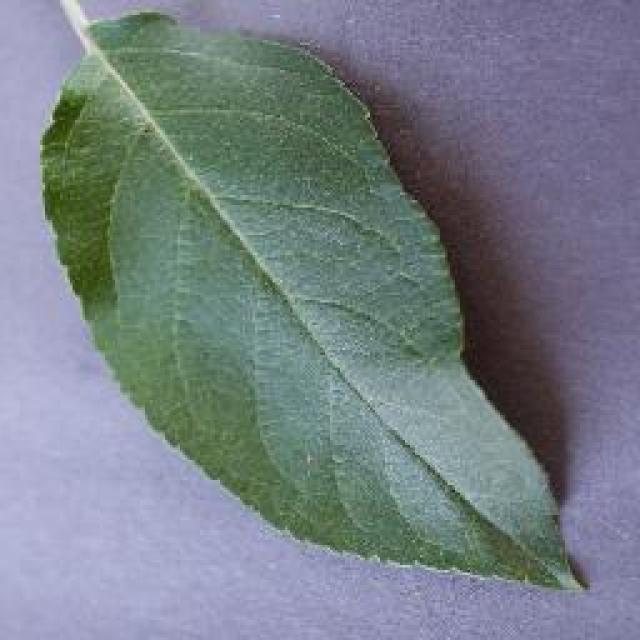apple healthy: (37, 0, 587, 592)
